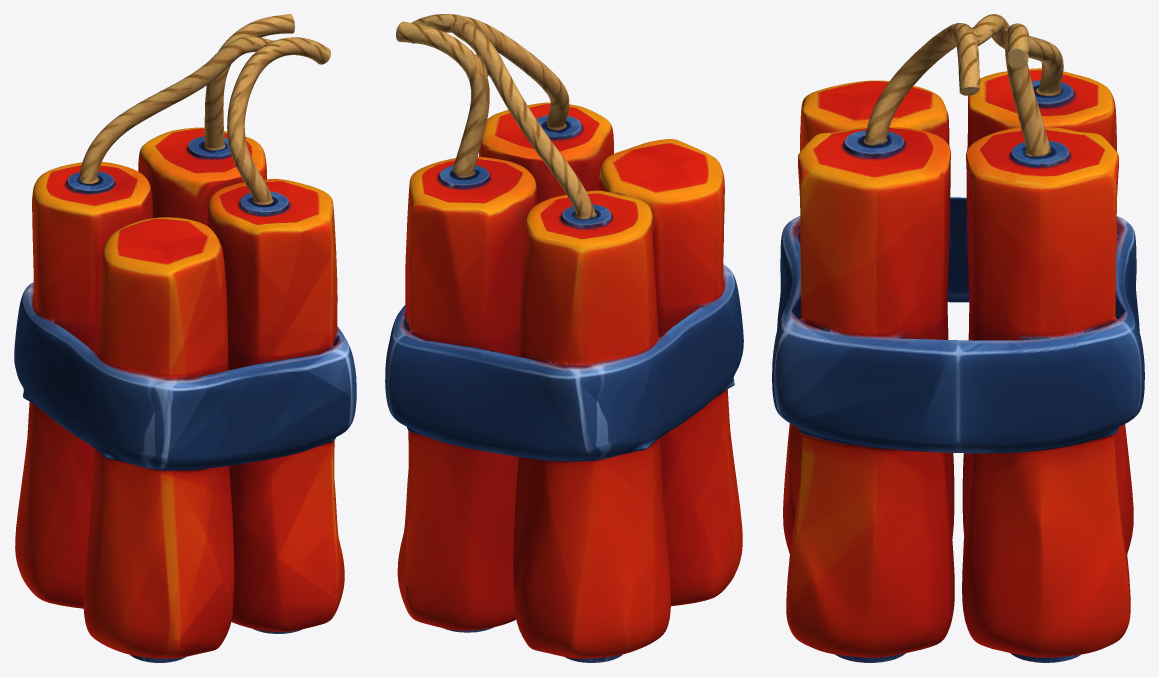
File: dinamite.fbx
3 views of the same model, side by side, from view 1: azimuth 30°, elevation 25°; view 2: azimuth 150°, elevation 25°; view 3: azimuth 270°, elevation 25° (orthographic). The views are drawn at different scales.
Visible parts, largest first — view 1: Mesh_0; view 2: Mesh_0; view 3: Mesh_0.
Boxes of the visible parts, x1,y1,x2,y2 form: Mesh_0: (14, 14, 356, 662); Mesh_0: (385, 14, 743, 662); Mesh_0: (772, 14, 1144, 662).
Size of the model in its own units: 101 by 190 by 99.5.
Materials: 1 (1 with a texture image).
